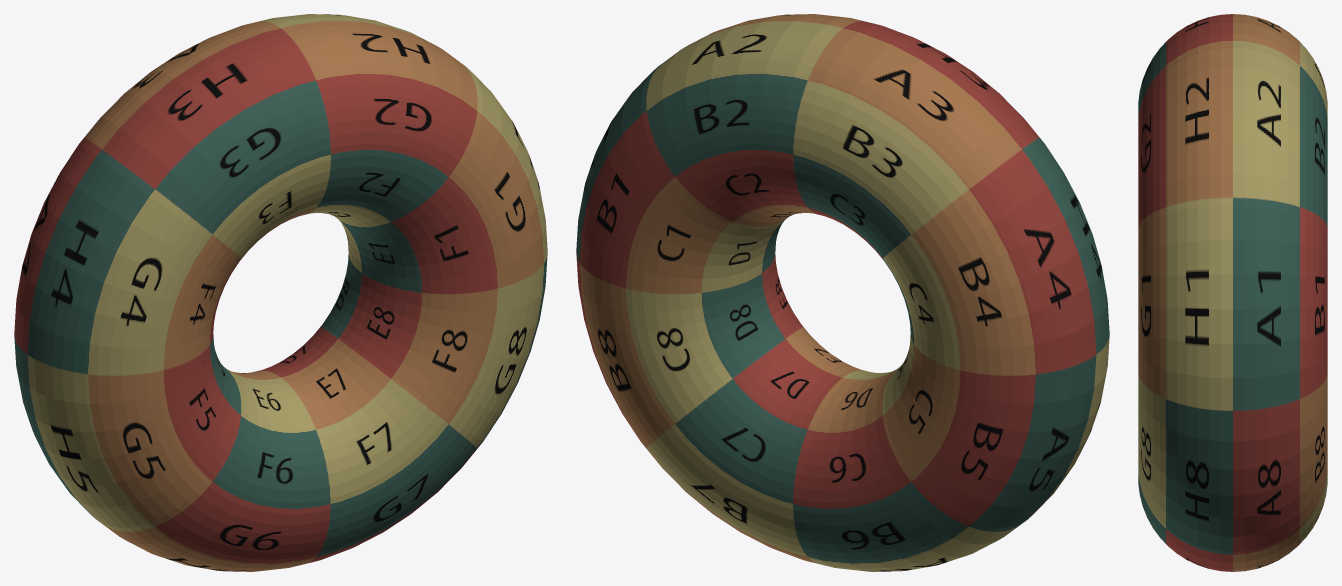
File: texture_torus_R4_r17.glb
3 renders of one model, left to right at view 1: azimuth 30°, elevation 25°; view 2: azimuth 150°, elevation 25°; view 3: azimuth 270°, elevation 25°, orthographic. The views are drawn at different scales.
Parts seen in each view (by area): view 1: world; view 2: world; view 3: world.
Boxes of the visible parts, x1,y1,x2,y2 form: world: (14,14,547,571); world: (576,14,1109,571); world: (1138,14,1327,571).
Bounding box in the file's own units: 19.2 × 19.16 × 6.52.
Materials: 1 (1 with a texture image).
